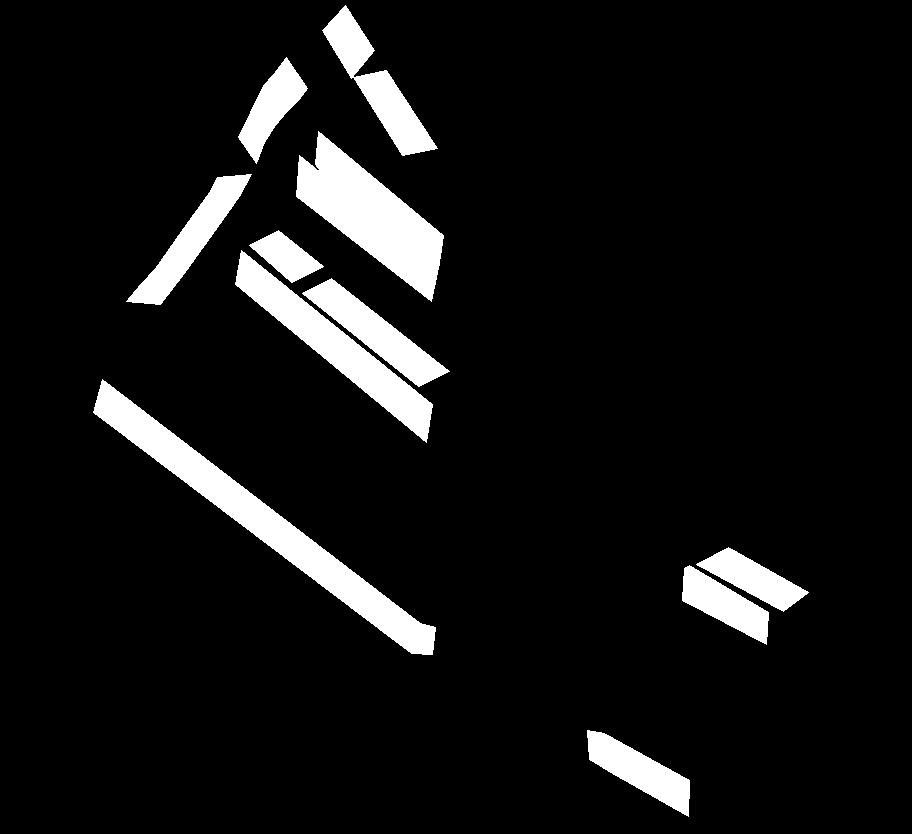parkingspot: (93, 379, 435, 654), (235, 250, 432, 442), (296, 155, 438, 301), (315, 131, 443, 269), (126, 174, 251, 304), (302, 278, 449, 386), (587, 730, 689, 816), (238, 57, 307, 163), (696, 547, 808, 611), (353, 70, 437, 155), (682, 565, 768, 644), (249, 230, 323, 282), (322, 5, 374, 78)
